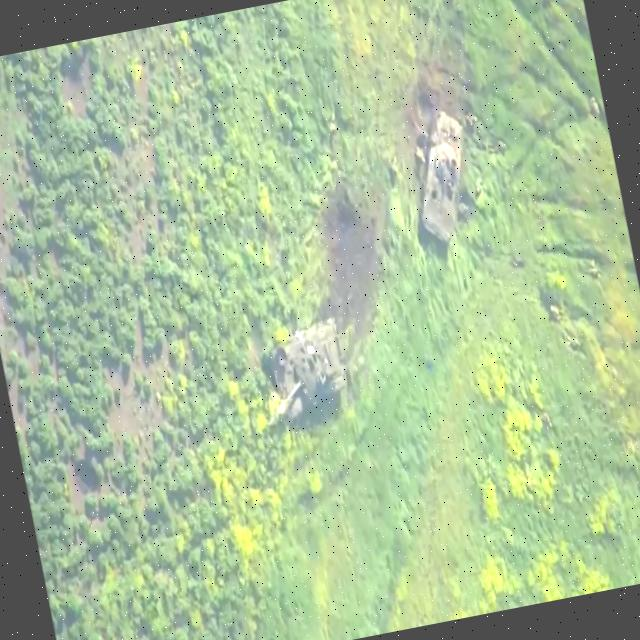AIFV: (400, 103, 490, 270)
MBT: (250, 321, 354, 429)
